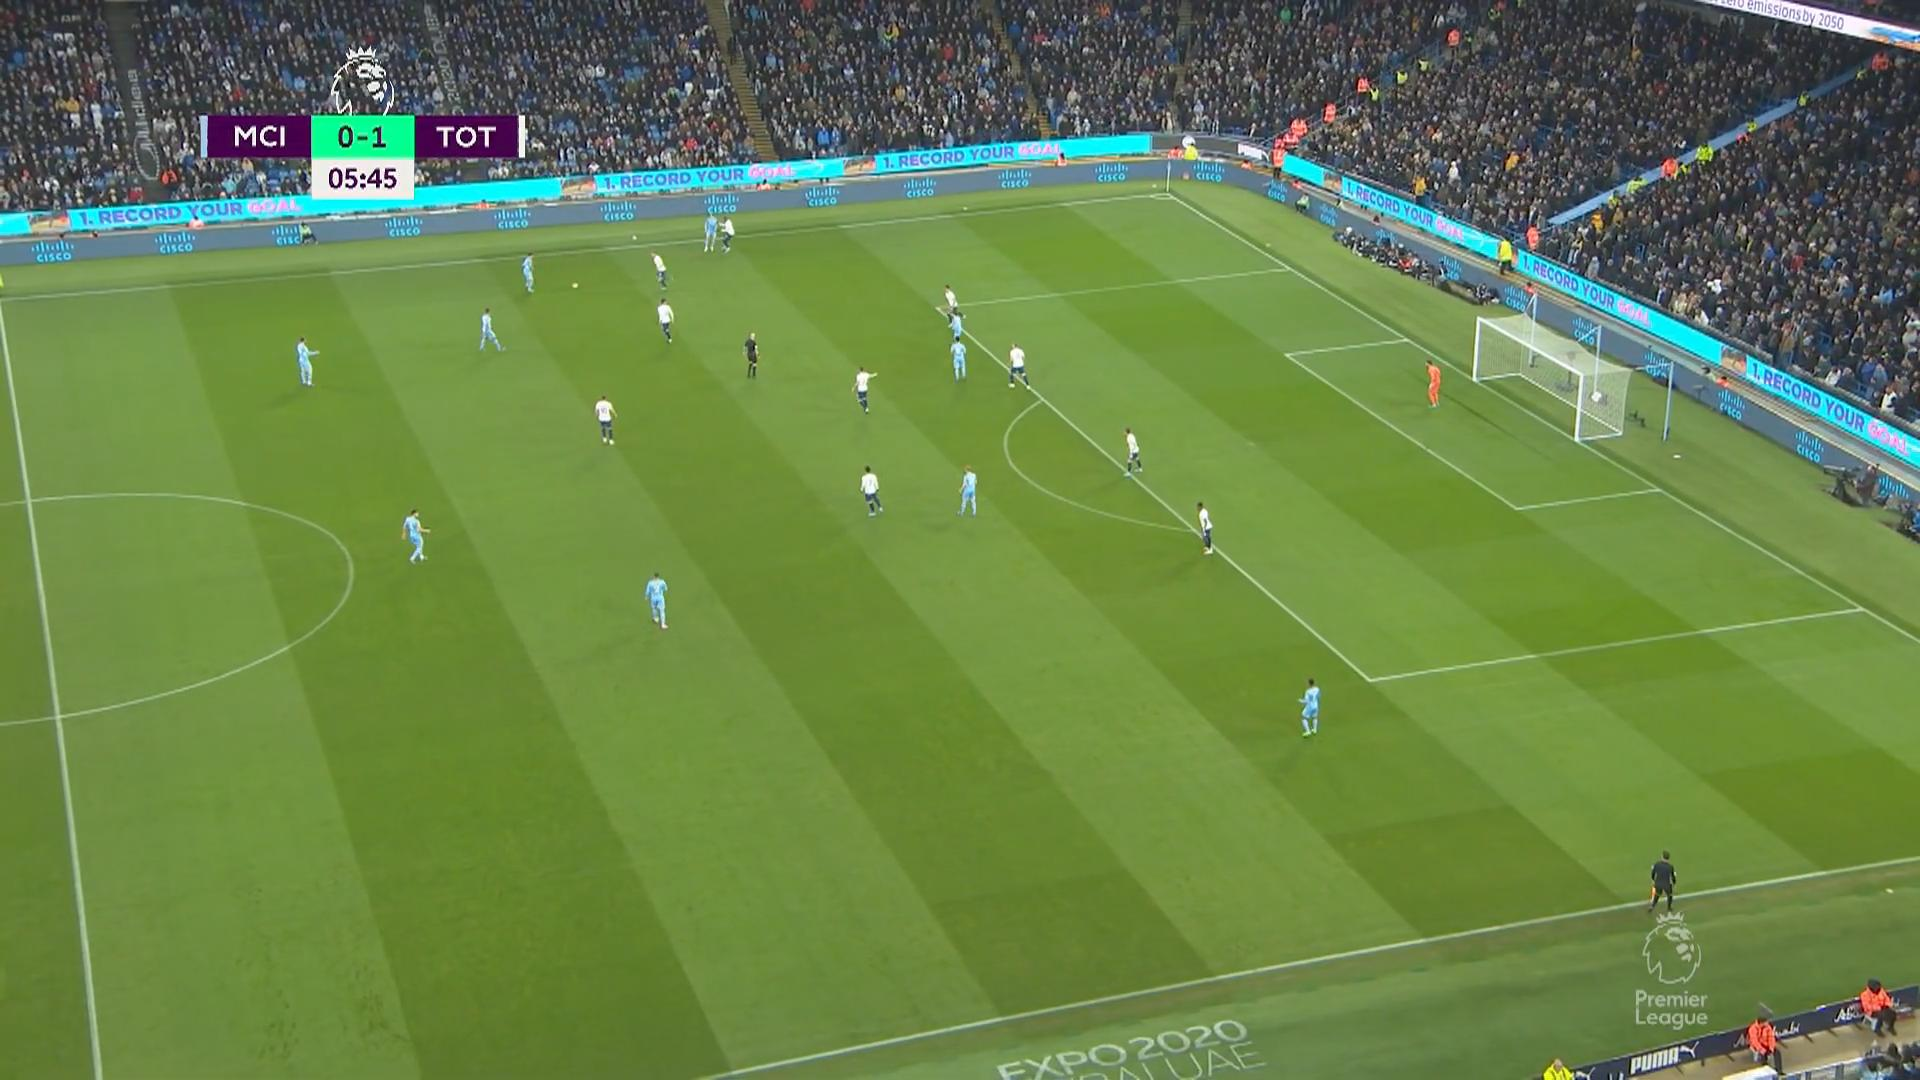ball: (572, 282, 578, 289)
goalkeeper: (1423, 358, 1441, 408)
player: (401, 507, 430, 562), (1296, 677, 1320, 738), (644, 571, 668, 630), (858, 464, 883, 517), (294, 335, 319, 387), (851, 365, 876, 414), (477, 306, 503, 353), (1006, 343, 1031, 390), (593, 394, 616, 445), (956, 465, 977, 516), (1122, 426, 1143, 477), (1196, 500, 1215, 555), (943, 285, 965, 329), (655, 296, 674, 344), (949, 335, 967, 381), (650, 250, 668, 288), (519, 252, 535, 293), (719, 215, 734, 253), (703, 212, 717, 252), (949, 312, 962, 352)
referee: (1646, 849, 1677, 914), (742, 331, 758, 378)
